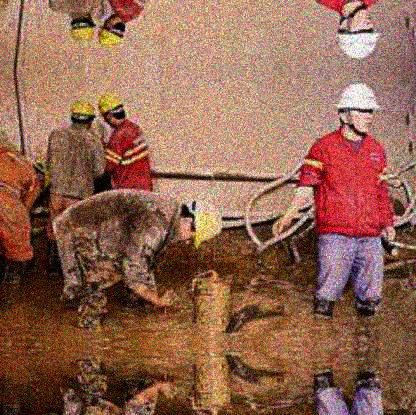helmet: (334, 82, 380, 138), (338, 2, 382, 59), (172, 200, 222, 248), (100, 12, 126, 47), (99, 96, 126, 129), (69, 12, 95, 44), (70, 98, 95, 131), (32, 159, 53, 193)
